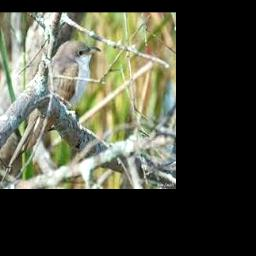Cuckoo: (13, 41, 101, 157)
